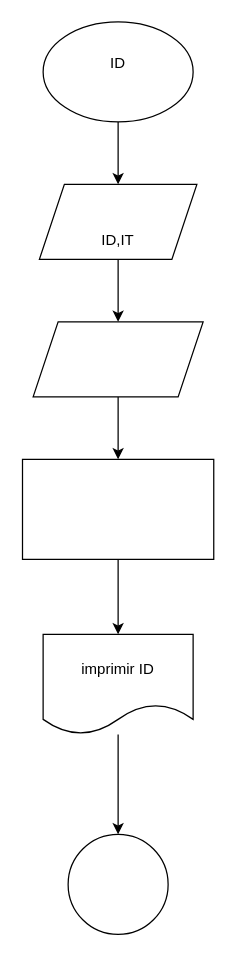
Some shapes in this 235 by 956 pixel diagram are drawn without their labels. Each missing label, with the box of its shape:
IT=S1+S2+S3+S4+S5+S6: (21, 458, 214, 559)
S1,S2,S3,S4,S5,S6: (32, 321, 203, 397)
